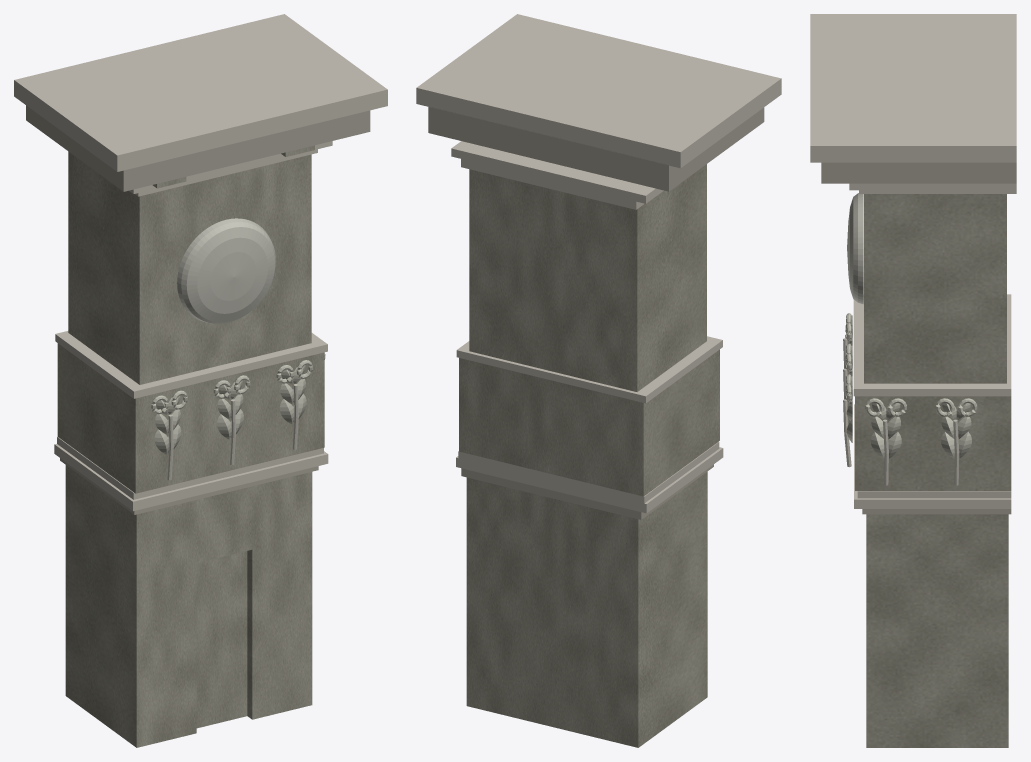
The model's file is qingyunli-no22-leaf-capital-near.glb.
The picture shows the model from 3 angles, left to right: view 1: azimuth 30°, elevation 25°; view 2: azimuth 150°, elevation 25°; view 3: azimuth 270°, elevation 25°; orthographic projection. The views are drawn at different scales.
Visible parts, largest first — view 1: 青云里襄阳北路22弄入口叶饰石柱头与圆盘; view 2: 青云里襄阳北路22弄入口叶饰石柱头与圆盘; view 3: 青云里襄阳北路22弄入口叶饰石柱头与圆盘.
Part boxes in pixels (box(x1,y1,x2,y2)): 青云里襄阳北路22弄入口叶饰石柱头与圆盘: box(14, 14, 387, 747); 青云里襄阳北路22弄入口叶饰石柱头与圆盘: box(416, 14, 781, 747); 青云里襄阳北路22弄入口叶饰石柱头与圆盘: box(810, 14, 1016, 747).
Size of the model in its own units: 1.13 by 2.49 by 0.747.
Materials: 7 (1 with a texture image).
